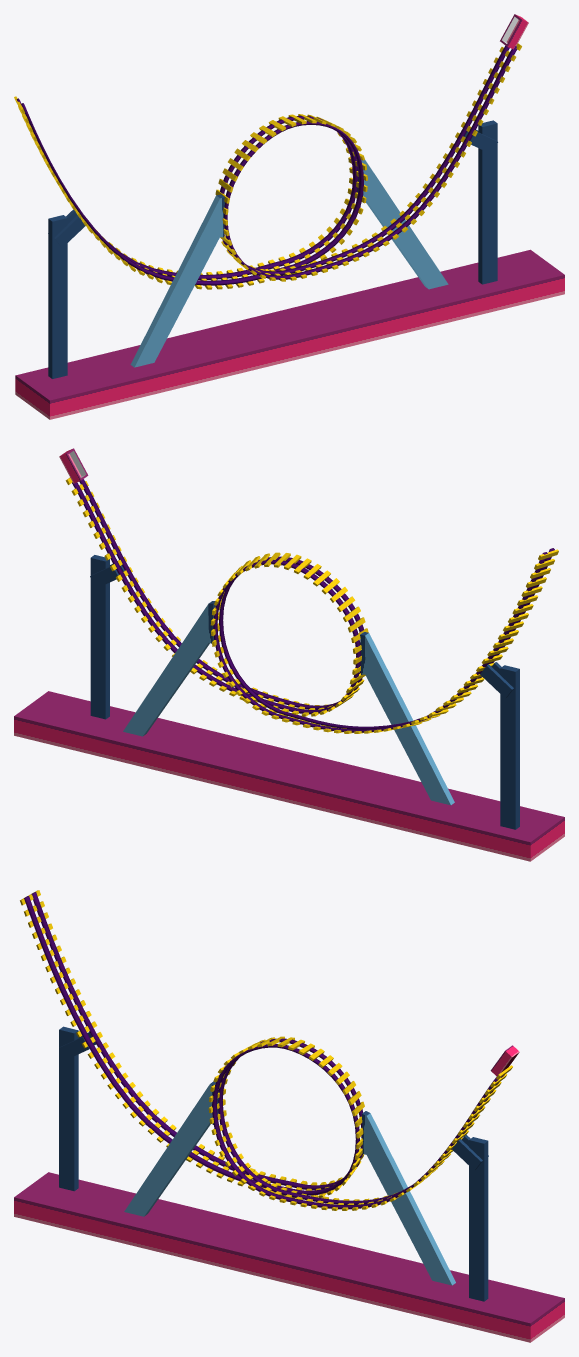
The model's file is circularMotion.glb.
3 renders of one model, top to bottom at view 1: azimuth 30°, elevation 25°; view 2: azimuth 150°, elevation 25°; view 3: azimuth 330°, elevation 25°, orthographic.
Visible parts, largest first — view 1: Platform, loopTrack, Track2, PillarL, Track1, PoleL, PoleR, PillarR, car; view 2: Platform, loopTrack, PillarL, Track1, PoleL, Track2, PoleR, PillarR, car; view 3: Platform, loopTrack, Track2, Track1, PillarR, PoleR, PoleL, PillarL.
Part boxes in pixels (<box>): Platform: <box>15,249,564,419</box>; loopTrack: <box>14,43,521,289</box>; Track2: <box>21,46,516,285</box>; PillarL: <box>130,194,224,367</box>; Track1: <box>16,45,509,279</box>; PoleL: <box>48,209,84,378</box>; PoleR: <box>464,120,497,284</box>; PillarR: <box>357,160,448,289</box>; car: <box>500,14,528,49</box>; Platform: <box>14,691,564,861</box>; loopTrack: <box>65,477,558,733</box>; PillarL: <box>360,632,454,805</box>; Track1: <box>72,482,547,732</box>; PoleL: <box>480,662,519,829</box>; Track2: <box>79,479,554,729</box>; PoleR: <box>90,555,124,719</box>; PillarR: <box>123,601,215,736</box>; car: <box>59,448,88,483</box>; Platform: <box>14,1172,564,1342</box>; loopTrack: <box>20,890,512,1210</box>; Track2: <box>24,896,498,1209</box>; Track1: <box>31,892,504,1204</box>; PillarR: <box>362,1111,455,1285</box>; PoleR: <box>452,1134,488,1301</box>; PoleL: <box>59,1026,96,1191</box>; PillarL: <box>124,1081,218,1216</box>.
Bounding box in the file's own units: 7.17 × 3.95 × 0.8107.
1 material, 1 textured.
